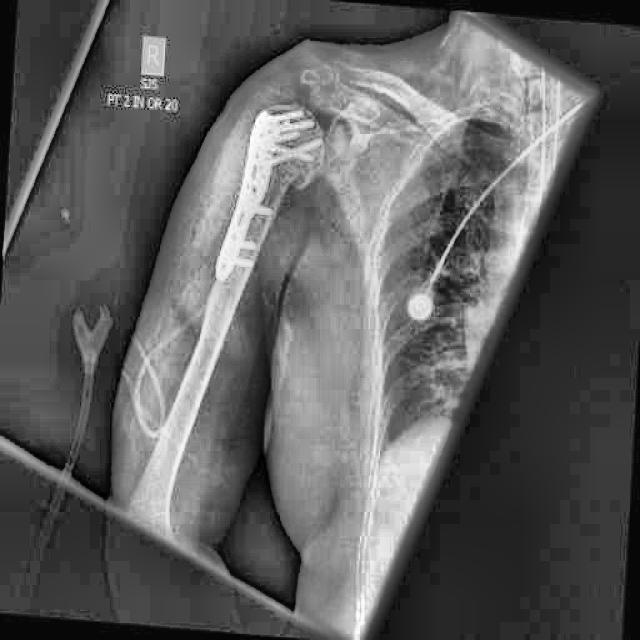shoulder fracture: (274, 163, 321, 209)
